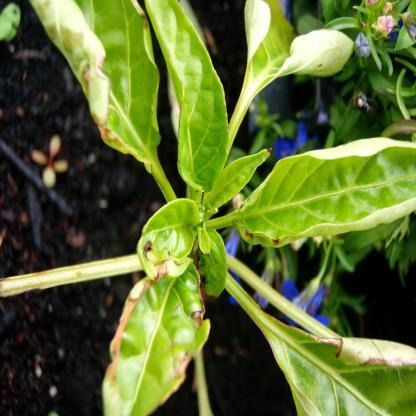Bell_pepper leaf: (28, 0, 160, 175), (238, 139, 416, 252), (99, 254, 209, 416), (270, 308, 416, 416), (130, 192, 208, 287)
